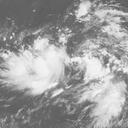cyclone: (4, 39, 66, 97)
